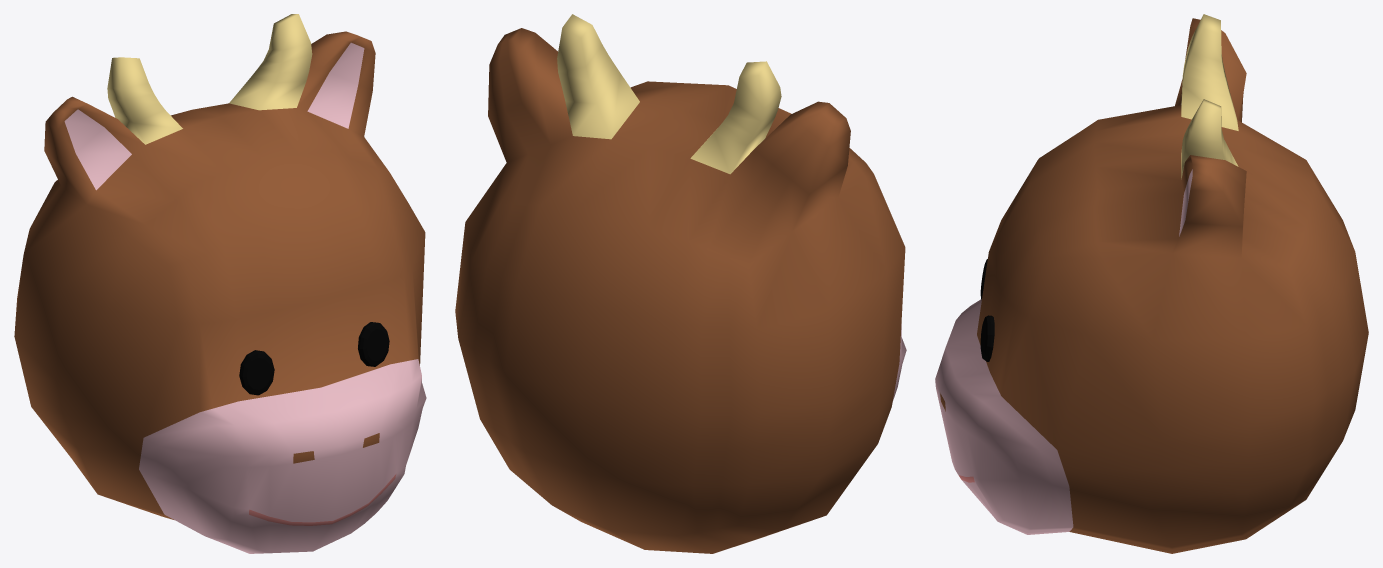
Rendered from CowModel.glb.
3 renders of one model, left to right at view 1: azimuth 30°, elevation 25°; view 2: azimuth 150°, elevation 25°; view 3: azimuth 270°, elevation 25°, orthographic. The views are drawn at different scales.
Parts seen in each view (by area): view 1: Vaca; view 2: Vaca; view 3: Vaca.
Boxes of the visible parts, x1,y1,x2,y2 form: Vaca: (14,14,426,553); Vaca: (455,14,906,553); Vaca: (935,14,1368,553).
Size of the model in its own units: 0.8382 by 1.07 by 0.8868.
